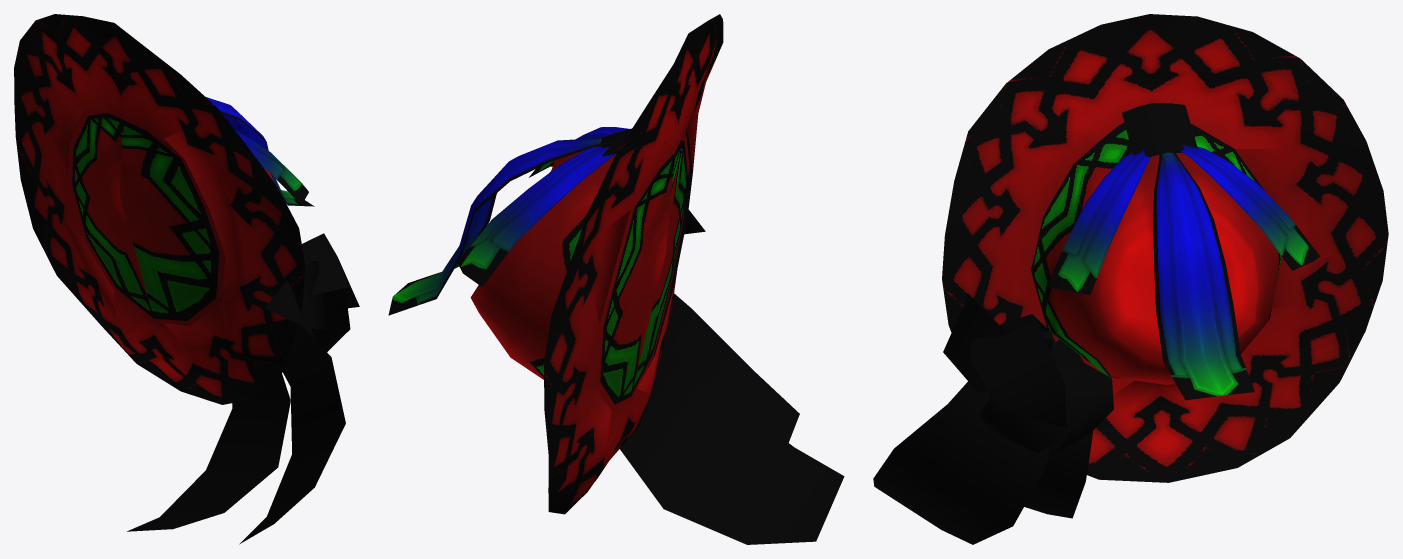
3 renders of one model, left to right at view 1: azimuth 30°, elevation 25°; view 2: azimuth 150°, elevation 25°; view 3: azimuth 270°, elevation 25°, orthographic. The views are drawn at different scales.
Parts seen in each view (by area): view 1: B1133; view 2: B1133; view 3: B1133.
Part boxes in pixels (<box>): B1133: <box>14,14,359,544</box>; B1133: <box>388,14,844,544</box>; B1133: <box>873,14,1388,544</box>.
Bounding box in the file's own units: 0.6842 × 1.14 × 1.06.
